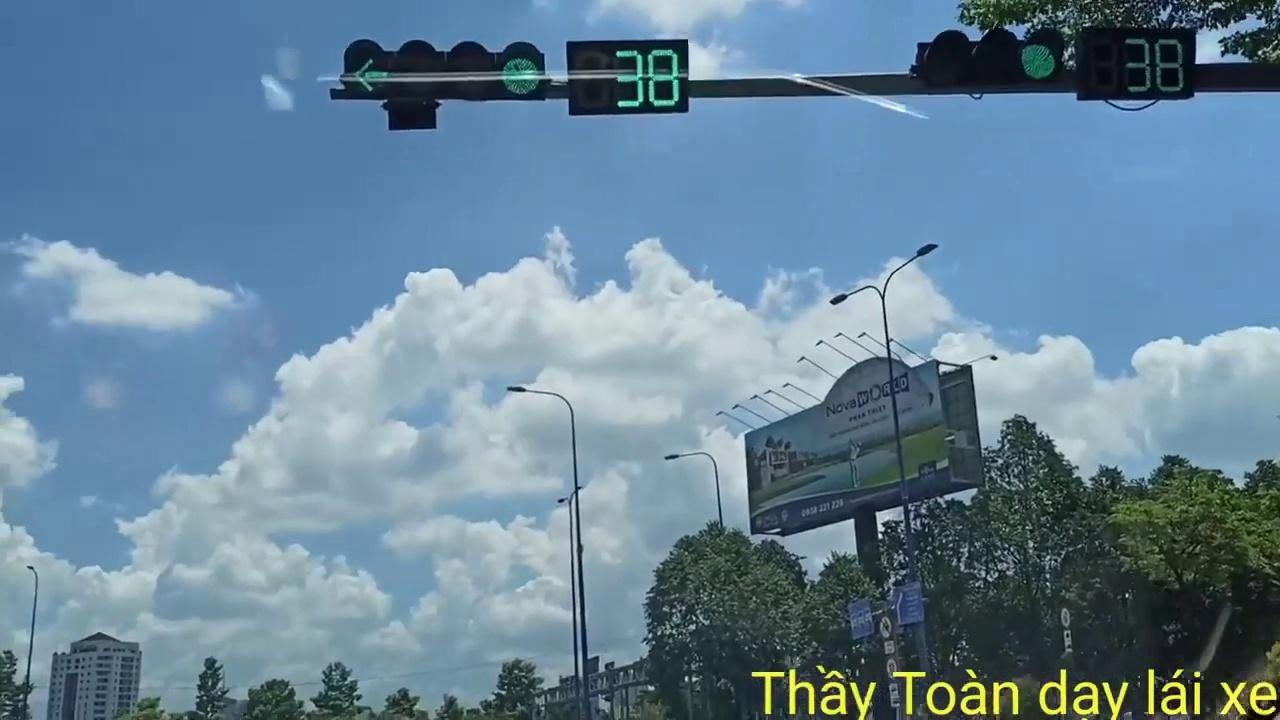Chỉ hướng đường: (891, 584, 926, 624)
Cấm xe máy: (878, 614, 894, 639)
Làn đường cho từng xe: (846, 598, 876, 640)
